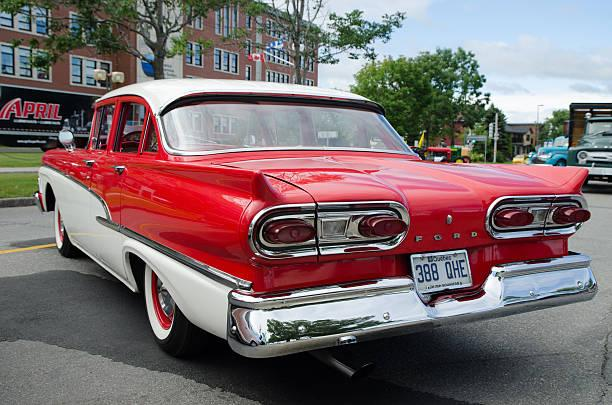licence: (404, 249, 477, 294)
